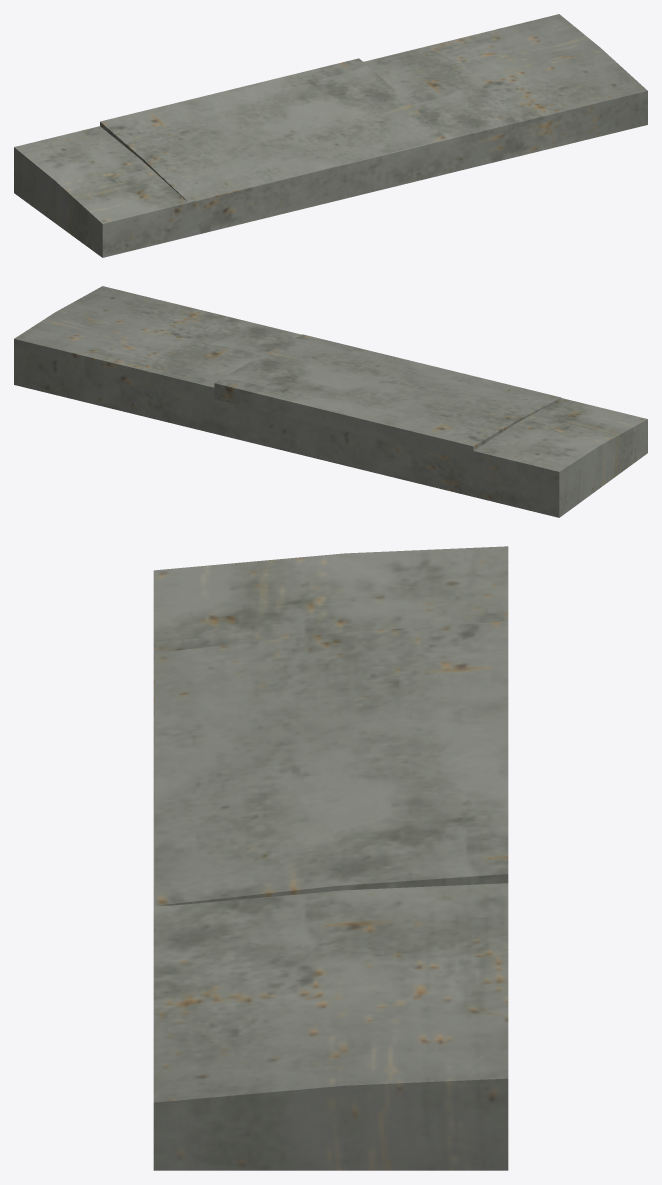
The model's file is shop_soba_slope.fbx.
The picture shows the model from 3 angles, top to bottom: view 1: azimuth 30°, elevation 25°; view 2: azimuth 150°, elevation 25°; view 3: azimuth 270°, elevation 25°; orthographic projection. The views are drawn at different scales.
Parts seen in each view (by area): view 1: shop_soba_slope; view 2: shop_soba_slope; view 3: shop_soba_slope.
Part boxes in pixels (bbox=[...]): shop_soba_slope: bbox=[14, 14, 647, 257]; shop_soba_slope: bbox=[14, 286, 647, 517]; shop_soba_slope: bbox=[153, 546, 508, 1170].
Size of the model in its own units: 5.44 by 0.4821 by 1.53.
